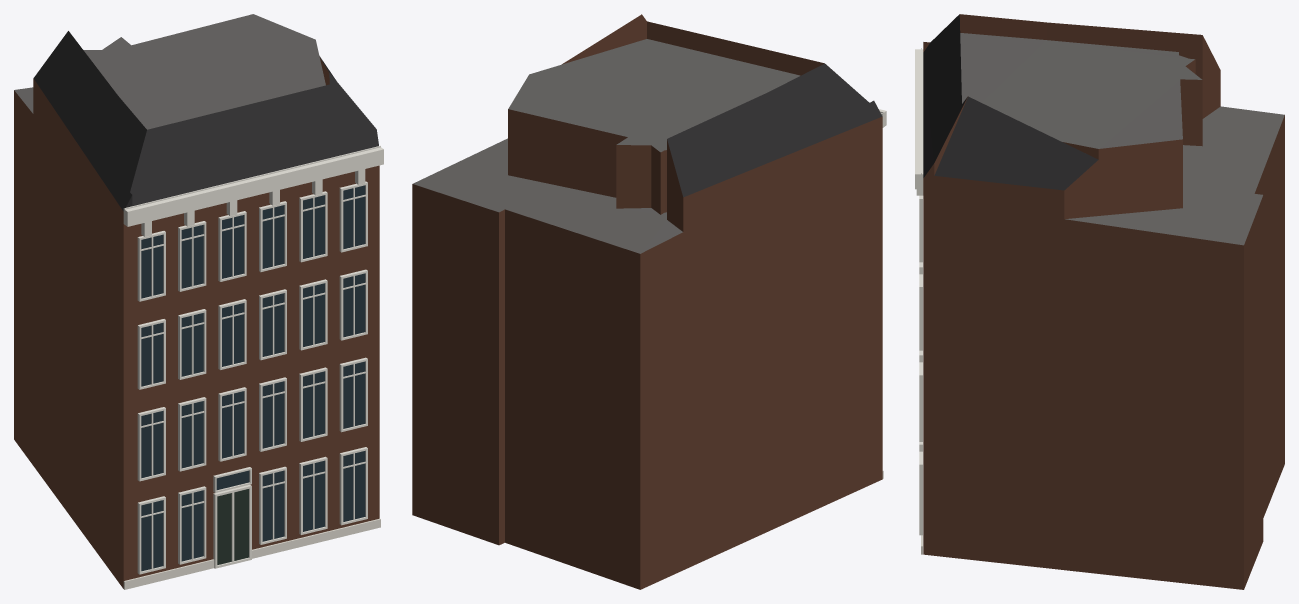
3 renders of one model, left to right at view 1: azimuth 30°, elevation 25°; view 2: azimuth 150°, elevation 25°; view 3: azimuth 270°, elevation 25°, orthographic. The views are drawn at different scales.
Visible parts, largest first — view 1: spec-0363100012165690; view 2: spec-0363100012165690; view 3: spec-0363100012165690.
Boxes of the visible parts, <box> form: spec-0363100012165690: <box>14,14,383,589</box>; spec-0363100012165690: <box>412,14,886,589</box>; spec-0363100012165690: <box>915,14,1284,589</box>.
Size of the model in its own units: 12.56 by 16.24 by 12.23.
